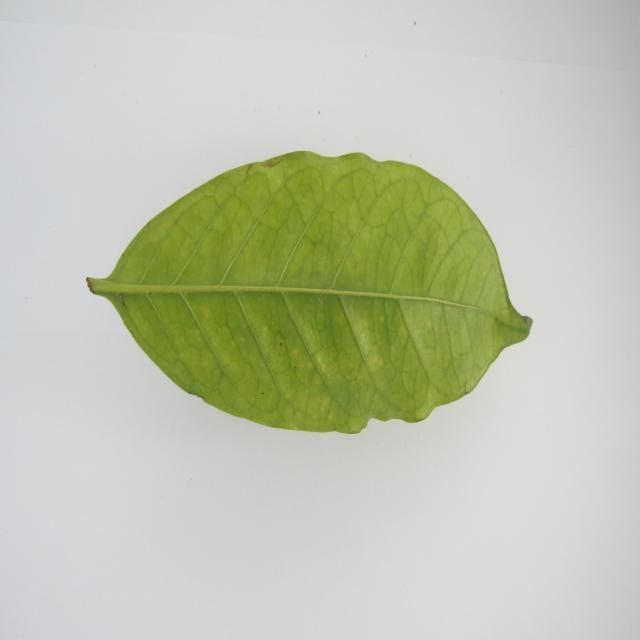DeficienciaNutricional-Manganeso: (88, 152, 531, 433)
